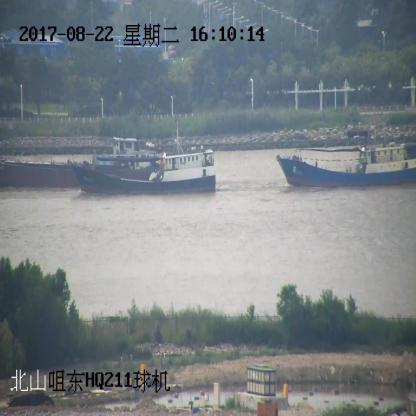Bulk Carrier: (0, 136, 150, 186)
